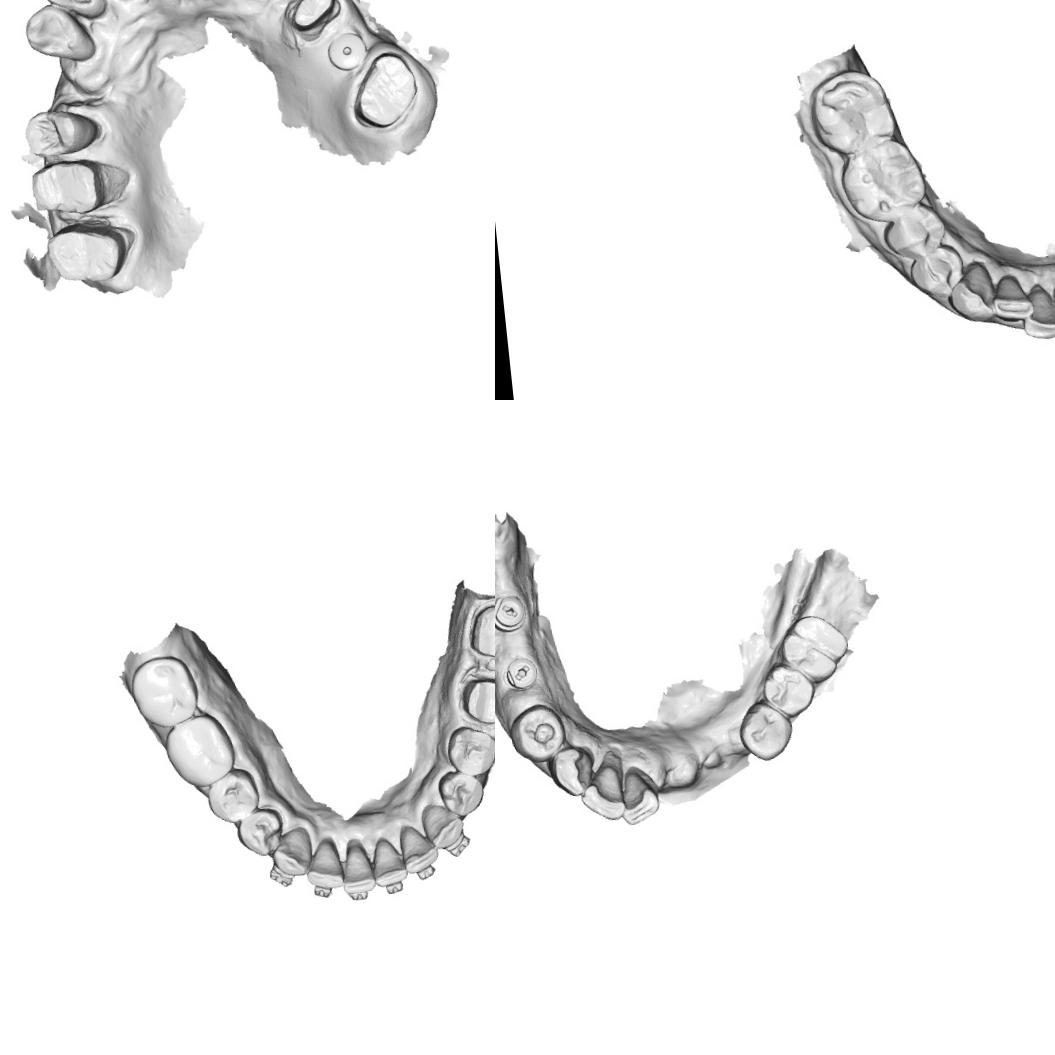canine: (21, 0, 100, 69), (946, 259, 1002, 326), (545, 743, 600, 800), (418, 798, 467, 853), (268, 824, 315, 880)
crown: (40, 217, 132, 290), (347, 47, 423, 132), (27, 156, 110, 220), (281, 0, 344, 34), (458, 671, 495, 728), (463, 600, 495, 663)
implant: (322, 28, 370, 74)
implant_minus: (495, 591, 529, 634), (504, 655, 540, 692)
incisor: (574, 748, 630, 824), (615, 764, 664, 829), (302, 834, 346, 892), (397, 820, 442, 876), (989, 271, 1035, 324), (368, 833, 410, 889), (337, 839, 377, 897), (1017, 283, 1055, 343), (36, 0, 108, 25)
molar: (807, 65, 897, 154), (838, 138, 931, 222), (160, 710, 239, 791), (126, 651, 204, 733), (776, 611, 852, 687)
premolar: (22, 104, 100, 162), (506, 699, 570, 766), (735, 697, 796, 765), (202, 765, 263, 828), (759, 660, 819, 720), (904, 242, 962, 304), (883, 202, 944, 260), (232, 804, 288, 860), (442, 721, 495, 779), (435, 766, 487, 818)
